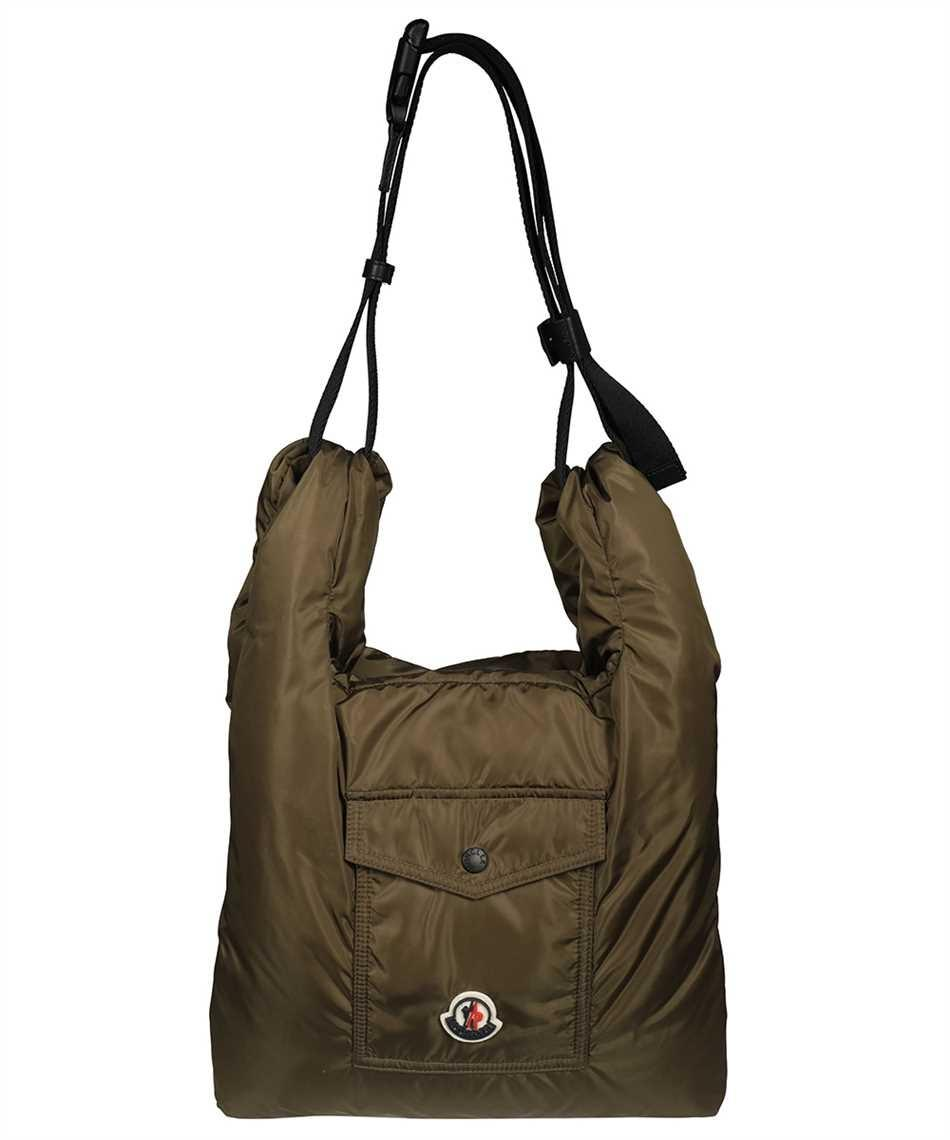MONCLER: (439, 990, 504, 1044)
